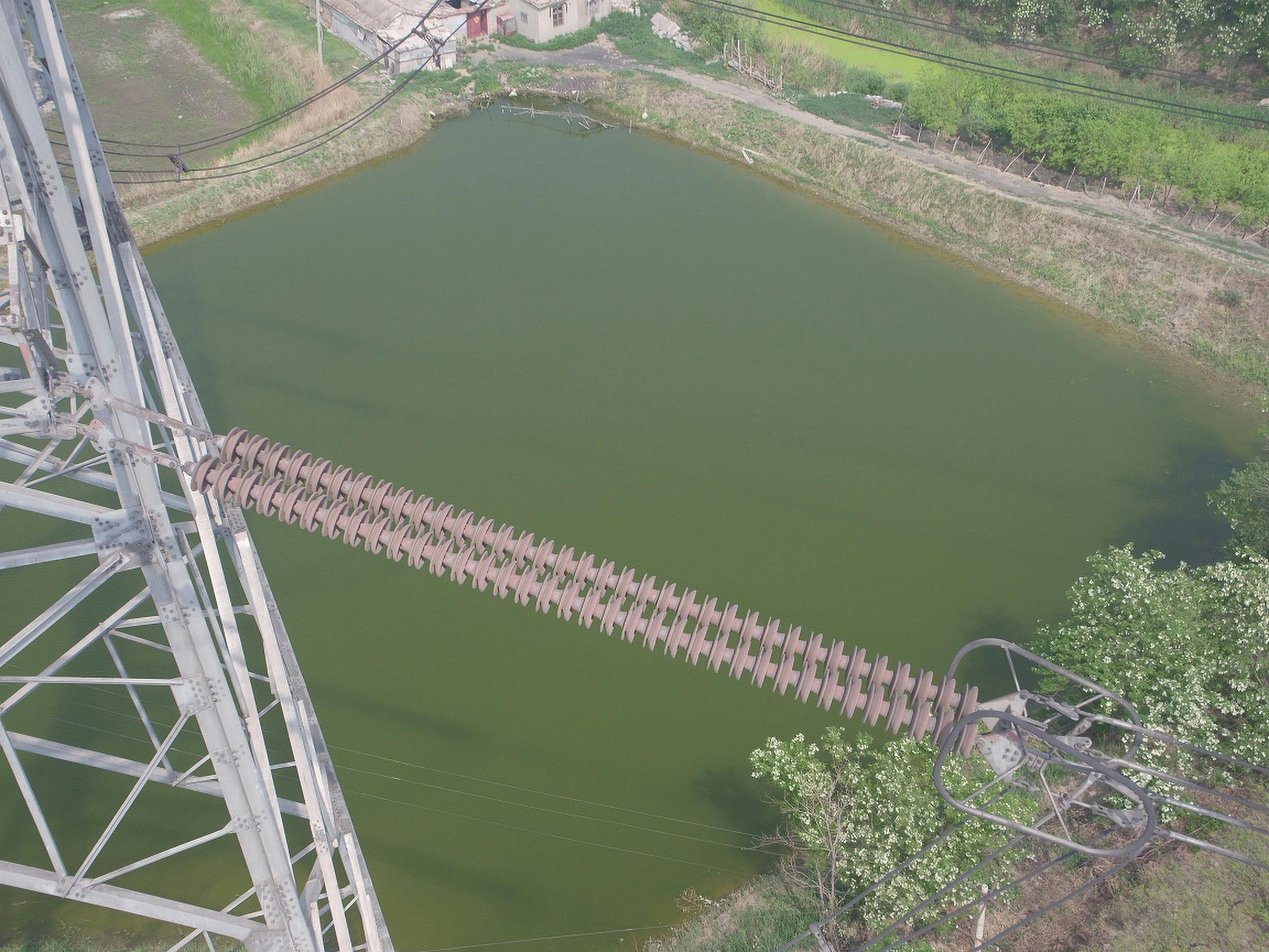insulator: (185, 423, 984, 762)
